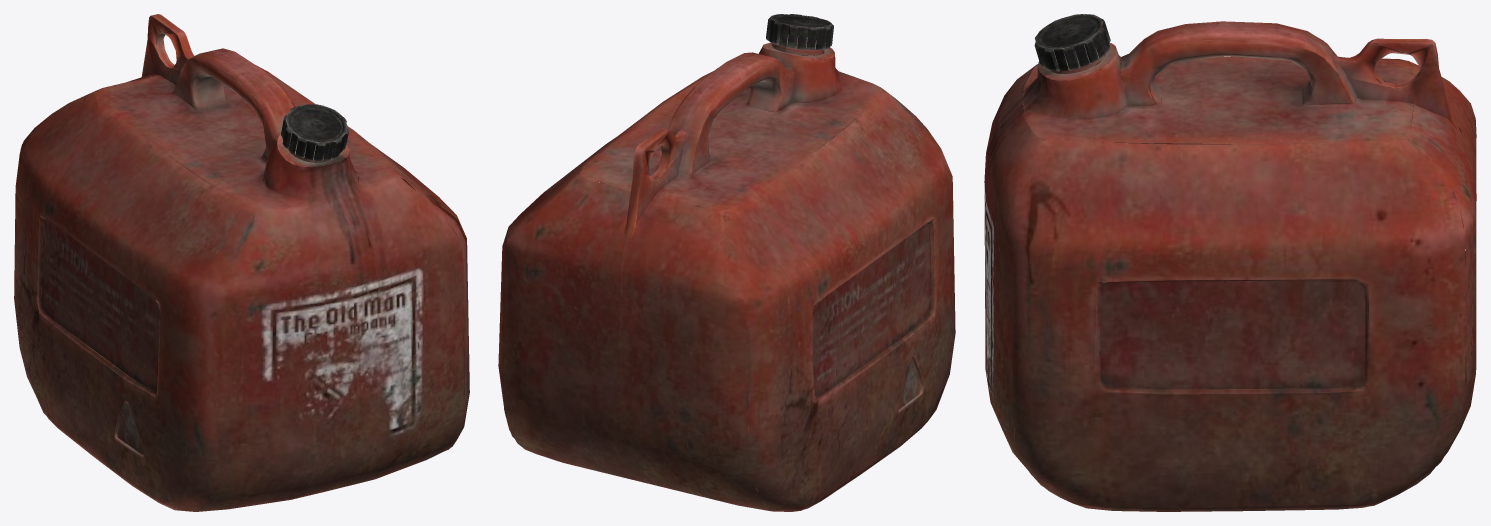
The model's file is plastic_jerrycan.gltf.
3 views of the same model, side by side, from view 1: azimuth 30°, elevation 25°; view 2: azimuth 150°, elevation 25°; view 3: azimuth 270°, elevation 25° (orthographic). The views are drawn at different scales.
Visible parts, largest first — view 1: plastic_jerrycan; view 2: plastic_jerrycan; view 3: plastic_jerrycan.
Boxes of the visible parts, box(x1,y1,x2,y2) form: plastic_jerrycan: box(14, 14, 469, 511); plastic_jerrycan: box(498, 14, 955, 511); plastic_jerrycan: box(984, 14, 1476, 511).
Bounding box in the file's own units: 0.2677 × 0.3186 × 0.3406.
Materials: 1 (1 with a texture image).
